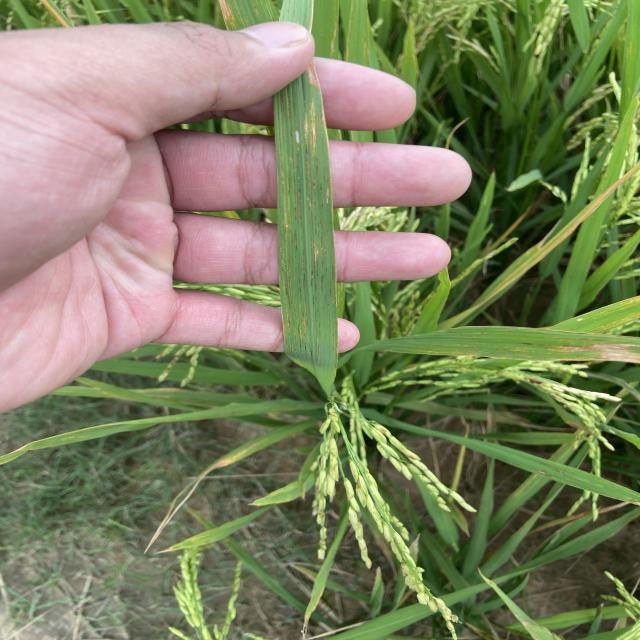Dom soc vi khuan: (280, 153, 292, 248), (279, 260, 297, 317), (309, 100, 319, 176), (303, 115, 311, 180), (294, 127, 301, 151), (297, 189, 302, 220), (313, 241, 320, 263), (325, 177, 330, 206), (285, 307, 290, 333), (302, 313, 306, 337), (312, 180, 316, 190)
